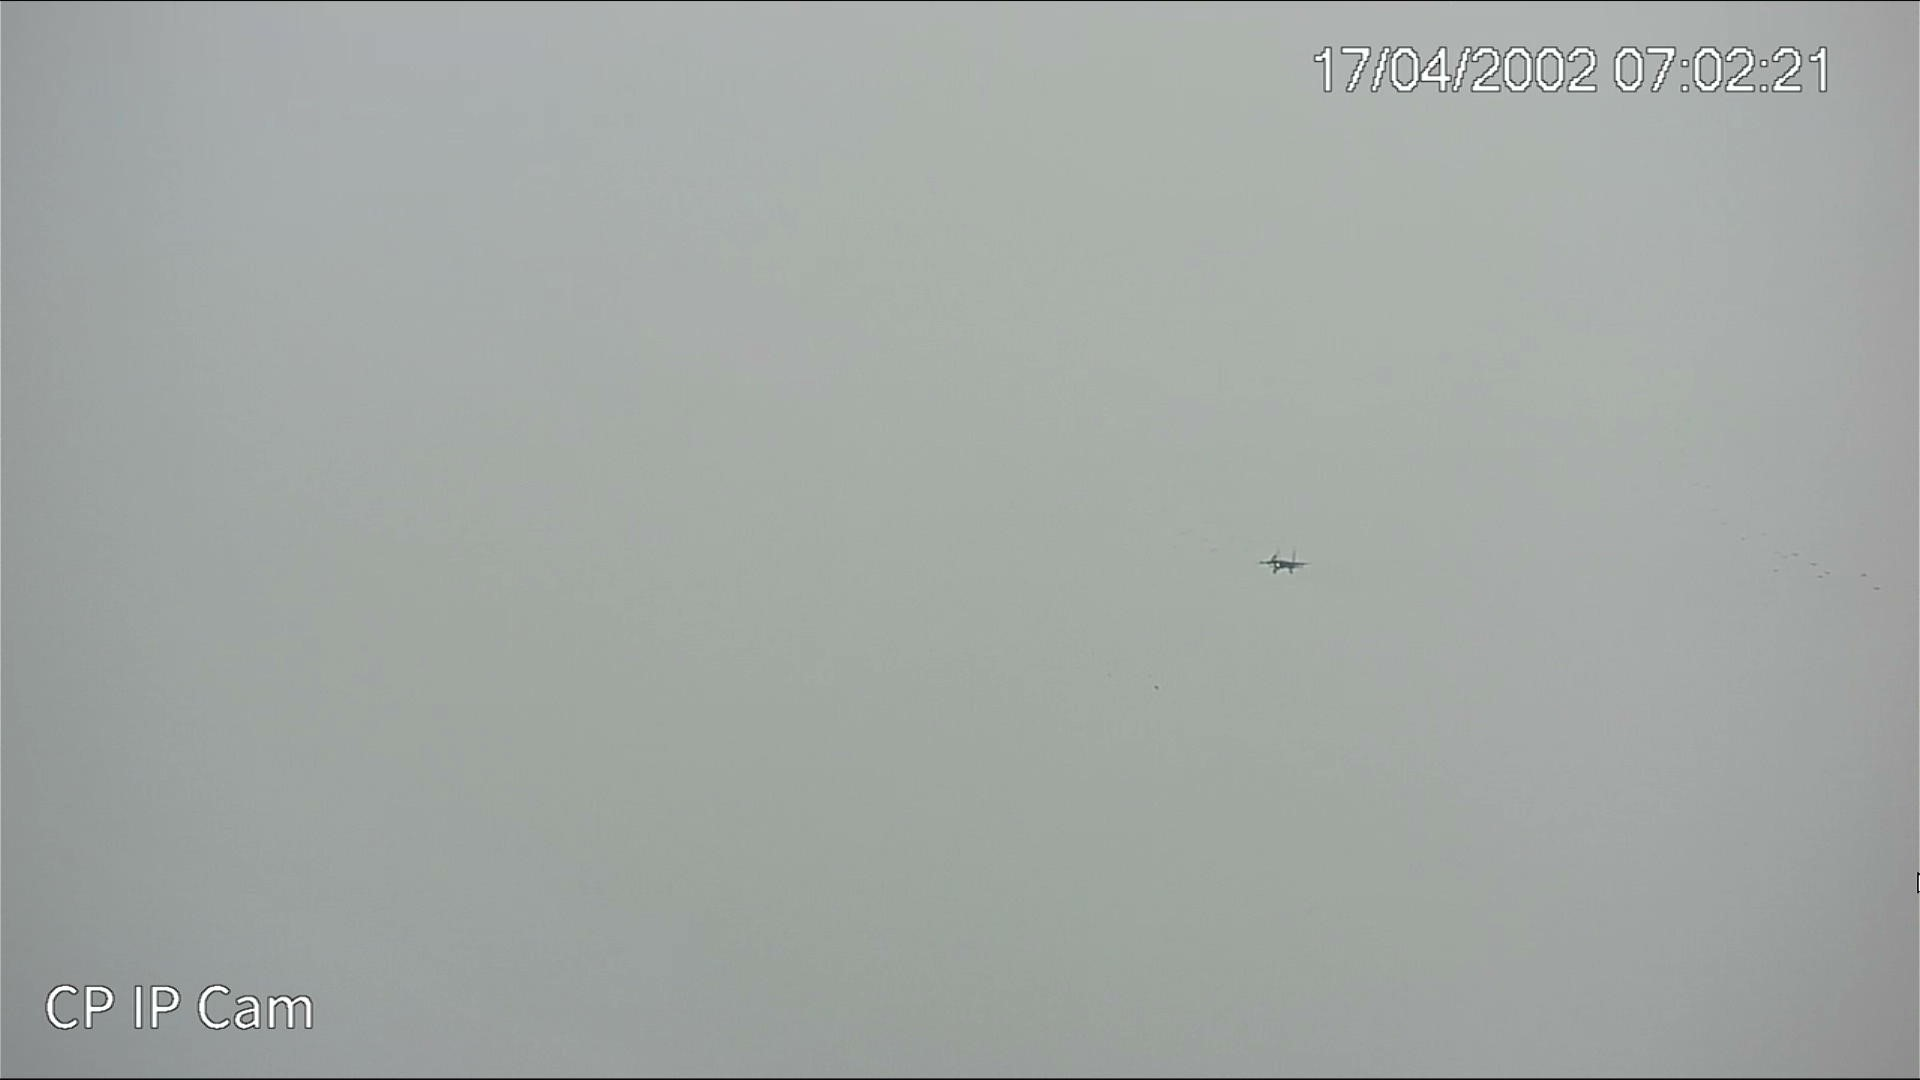SU_30: (1259, 550, 1309, 574)
